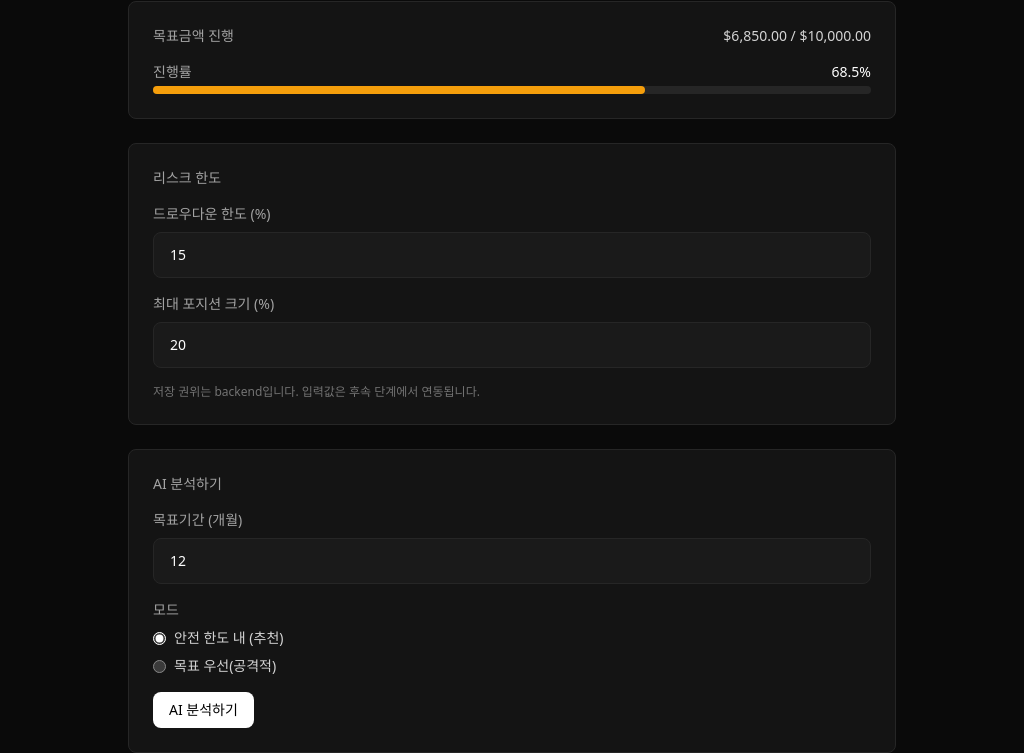
Test case: ⑤ 목표 & 리스크 — AI 분석 패널 › 'AI 분석하기' 클릭 시 결과 패널에 세팅·실현가능성 배지·근거를 표시한다
The image size is (1024, 753).
(page scrolled)
Click the button with test id "analyze-btn": click(203, 710) [153,692,254,728]
(page scrolled)
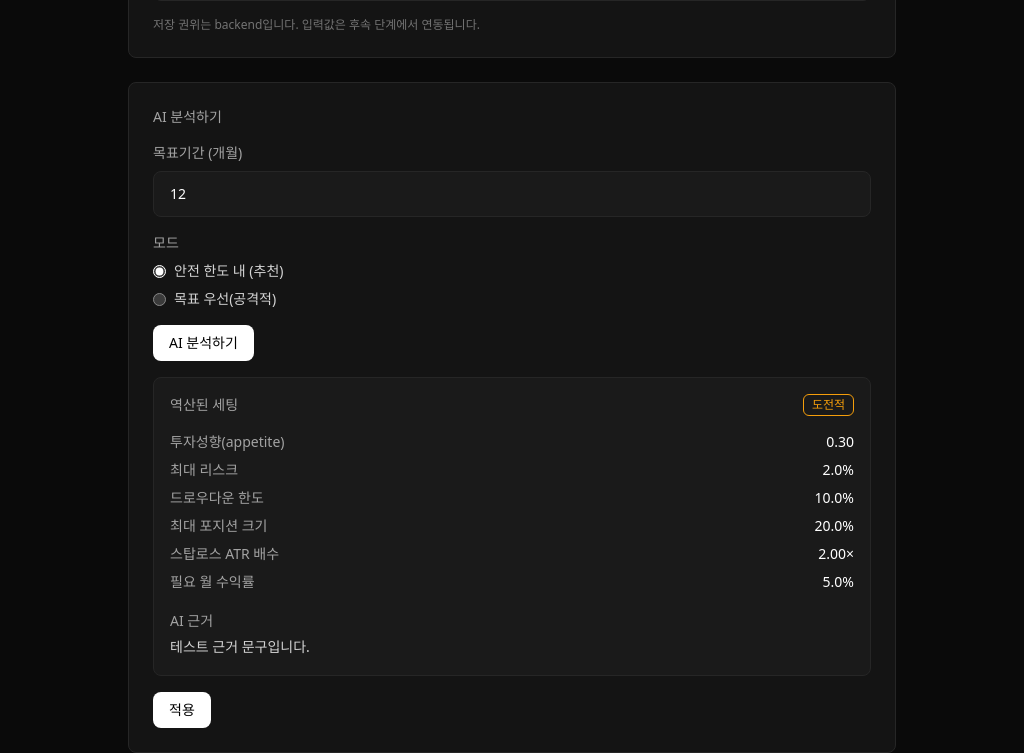
Result: the element with test id "ai-result-panel" is shown at [153,377,871,676]
Result: the text with test id "feasibility-badge" reads "도전적" at [812,396,845,413]
Result: the text with test id "ai-rationale" reads "테스트 근거 문구입니다." at [170,637,310,656]
